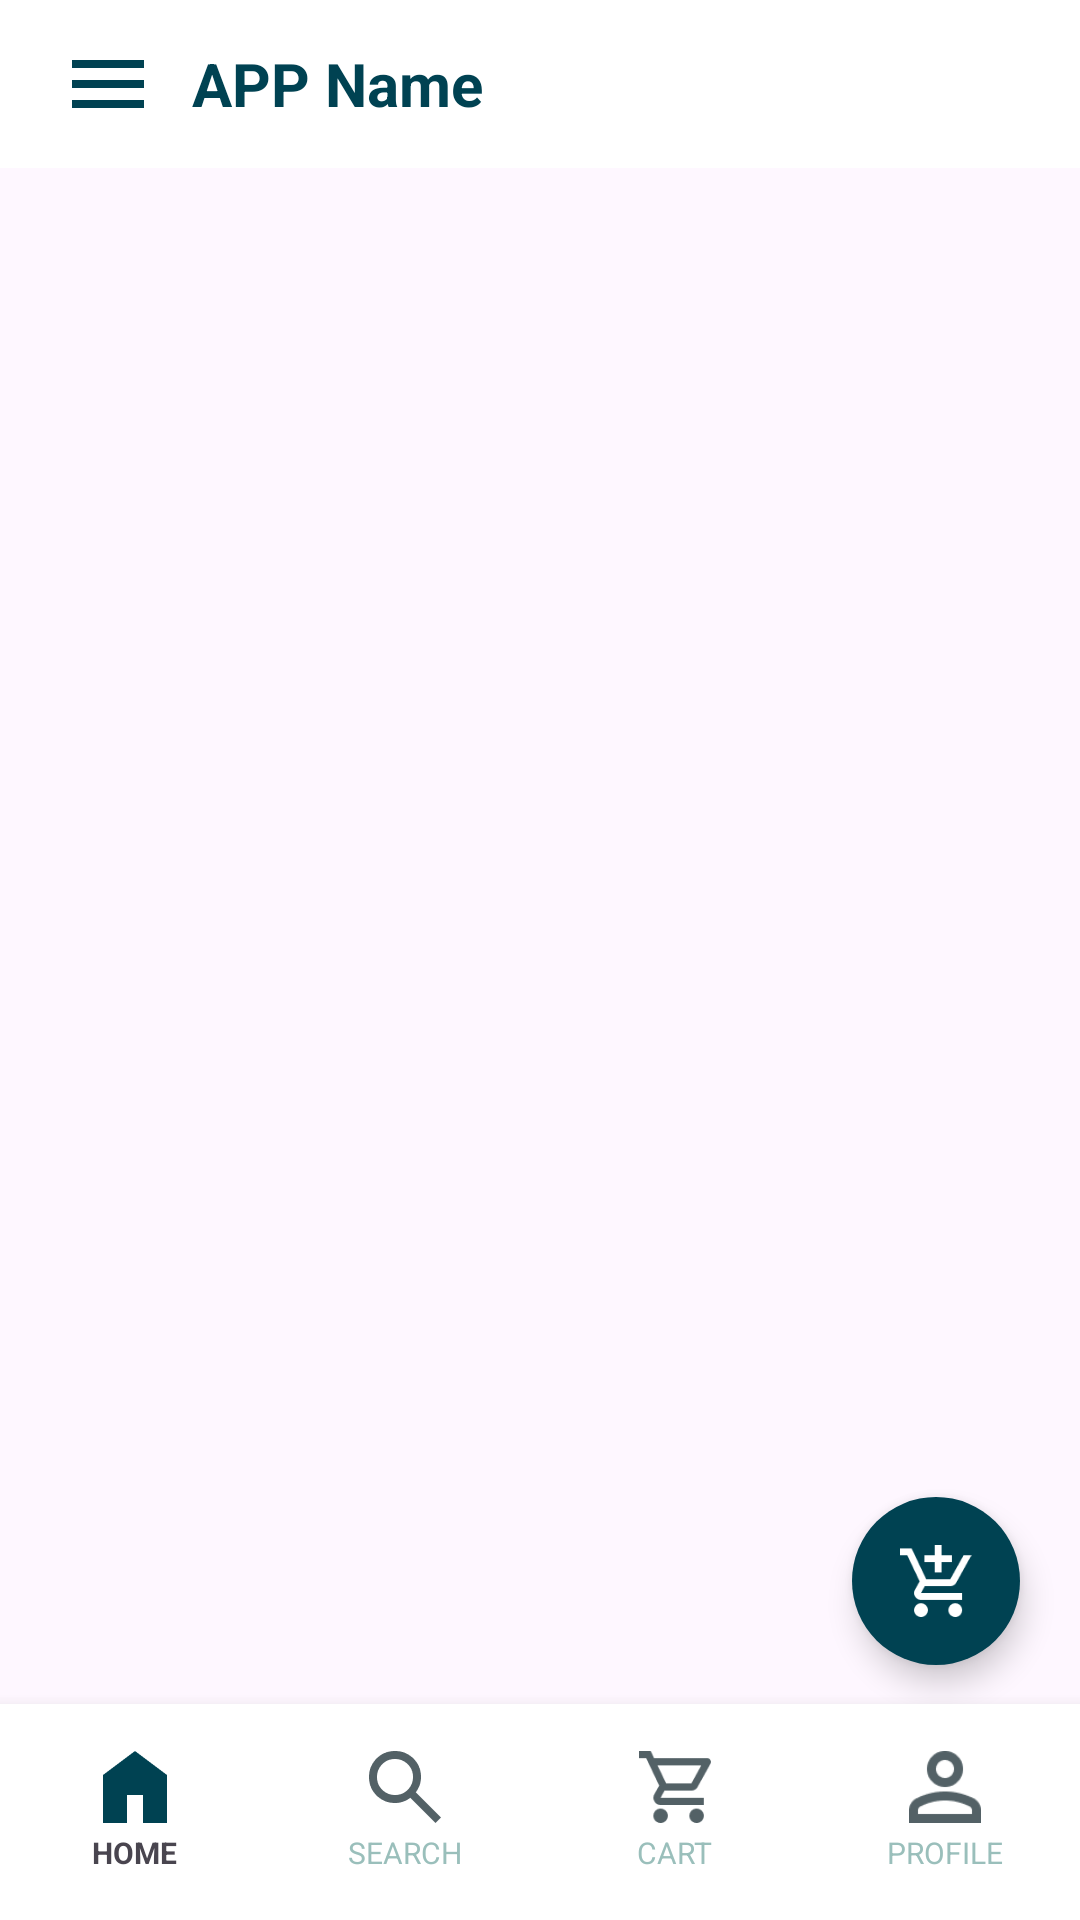

Named icons in this screenshot (1080w x 1920h) and their bounding boxes, (left=x1, top=y1, right=x2, bottom=y2):
cartplus: (left=852, top=1497, right=1020, bottom=1665)
menu: (left=72, top=60, right=144, bottom=108)
